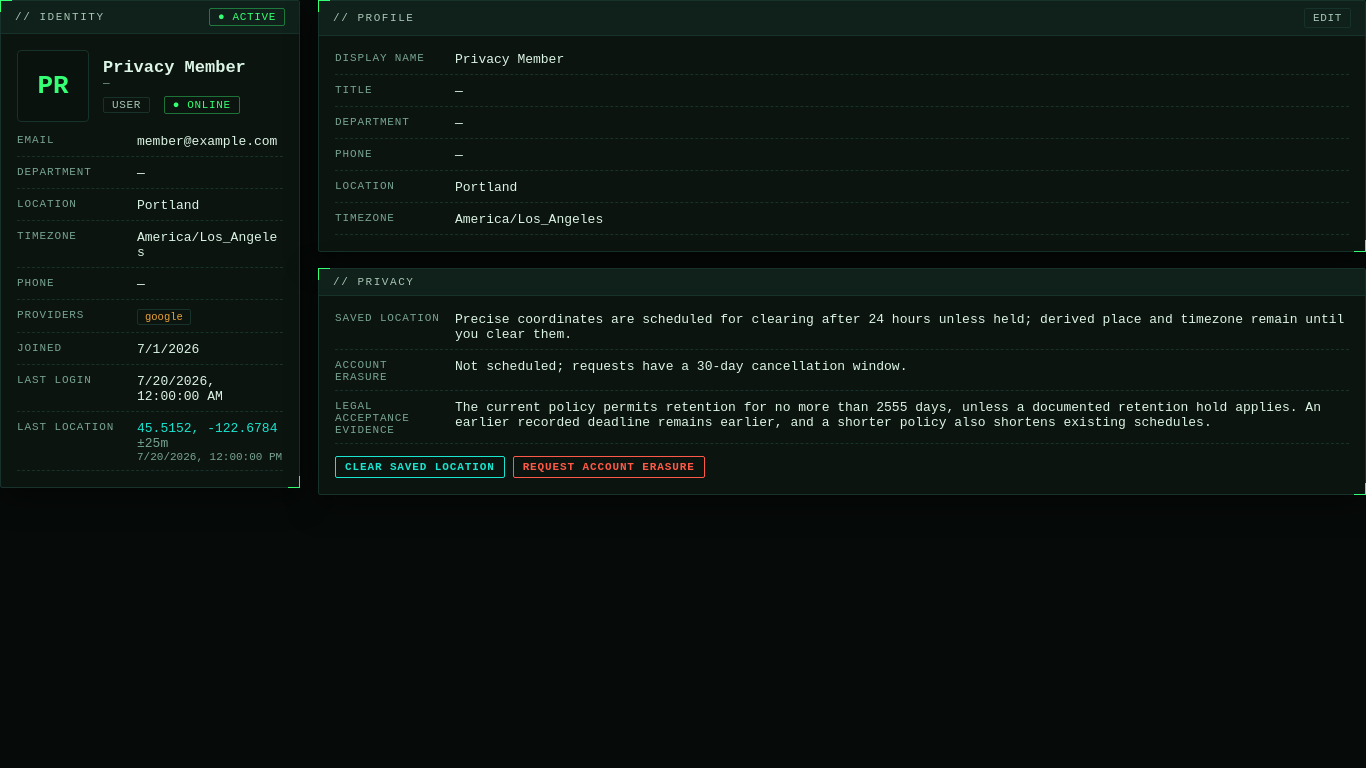
Scenario: UserProfile privacy controls › requests and cancels 30-day account erasure with an explicit warning and due date
The width and height of the screenshot is (1366, 768).
Click the button "Request account erasure" at (609, 467), box [513,456,705,478]
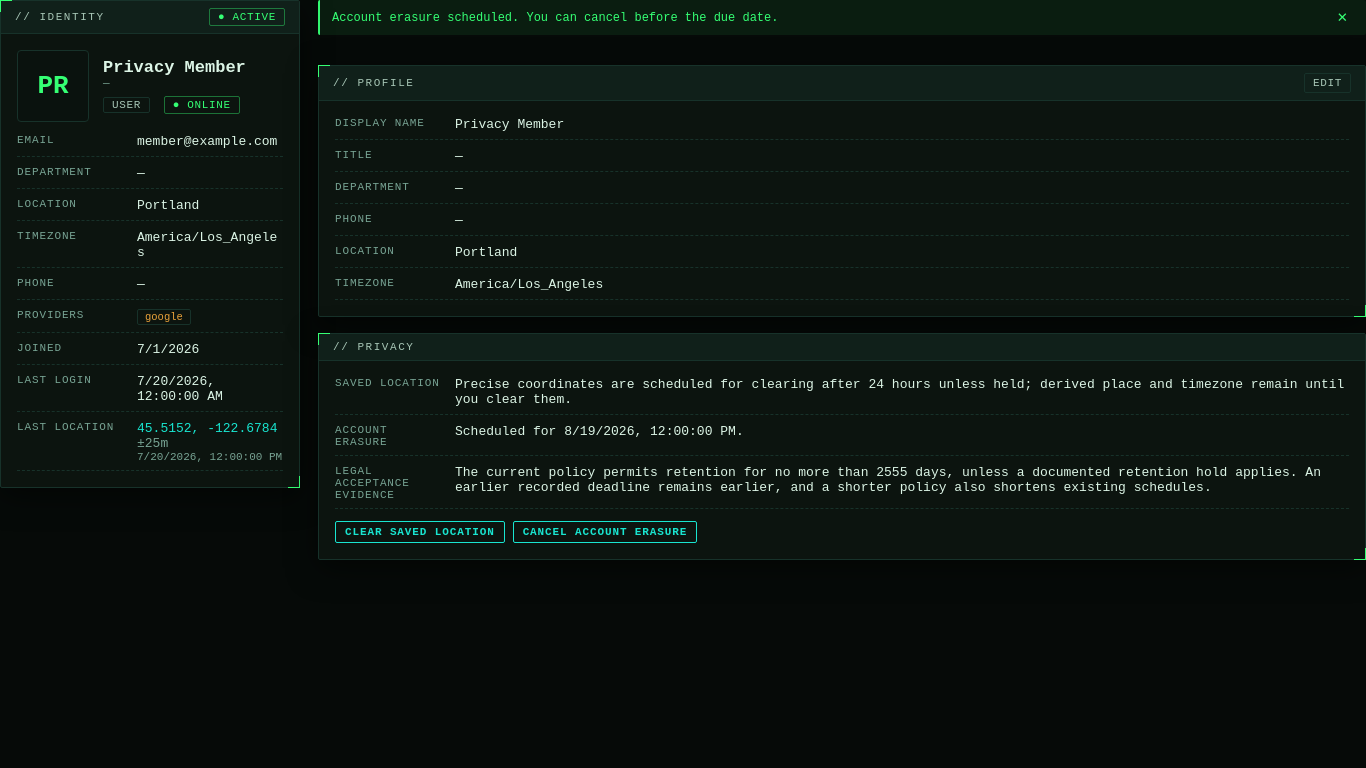
Now the text "Account erasure scheduled. You can cancel before the due date. ✕" is shown, box [318,0,1365,35]
Click the button "Cancel account erasure" at (605, 532), box [513,521,697,543]
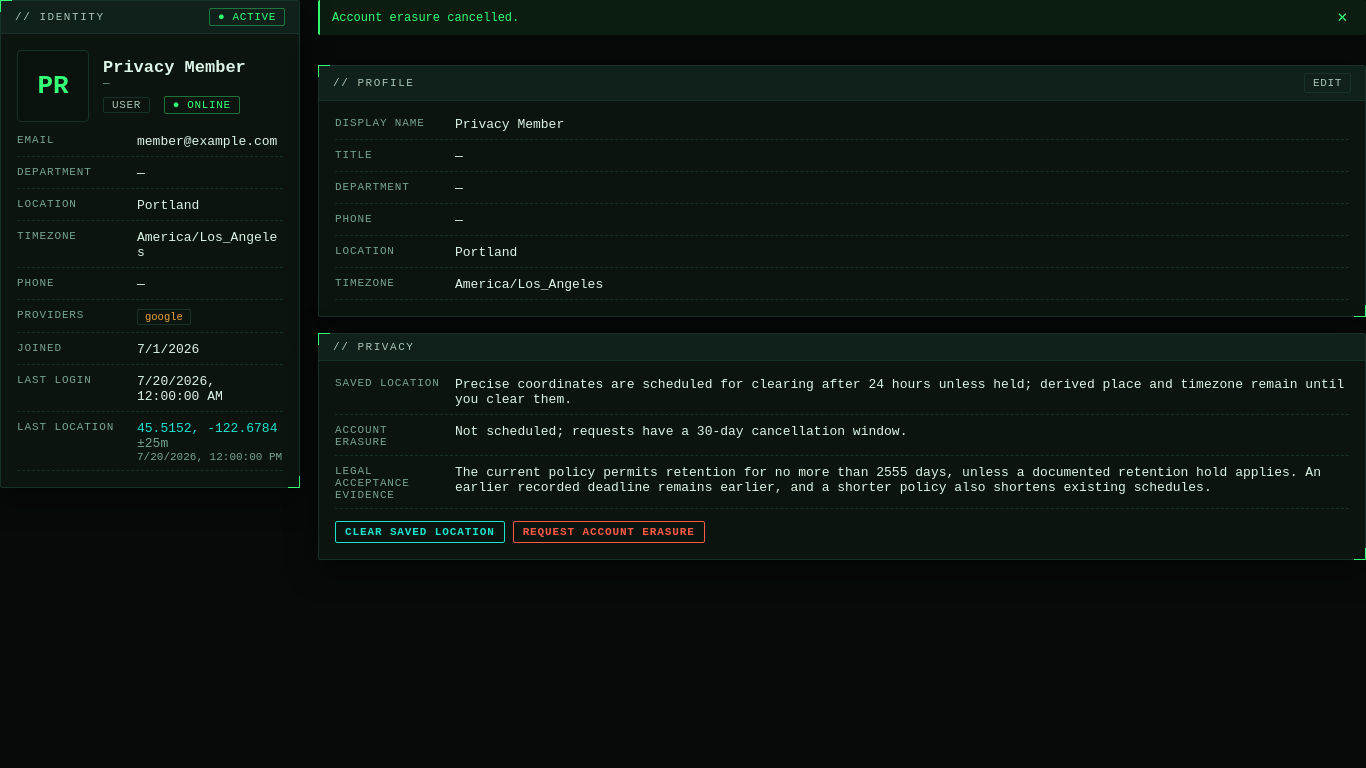
Now the text "Account erasure cancelled." is shown, box [332,10,519,24]
